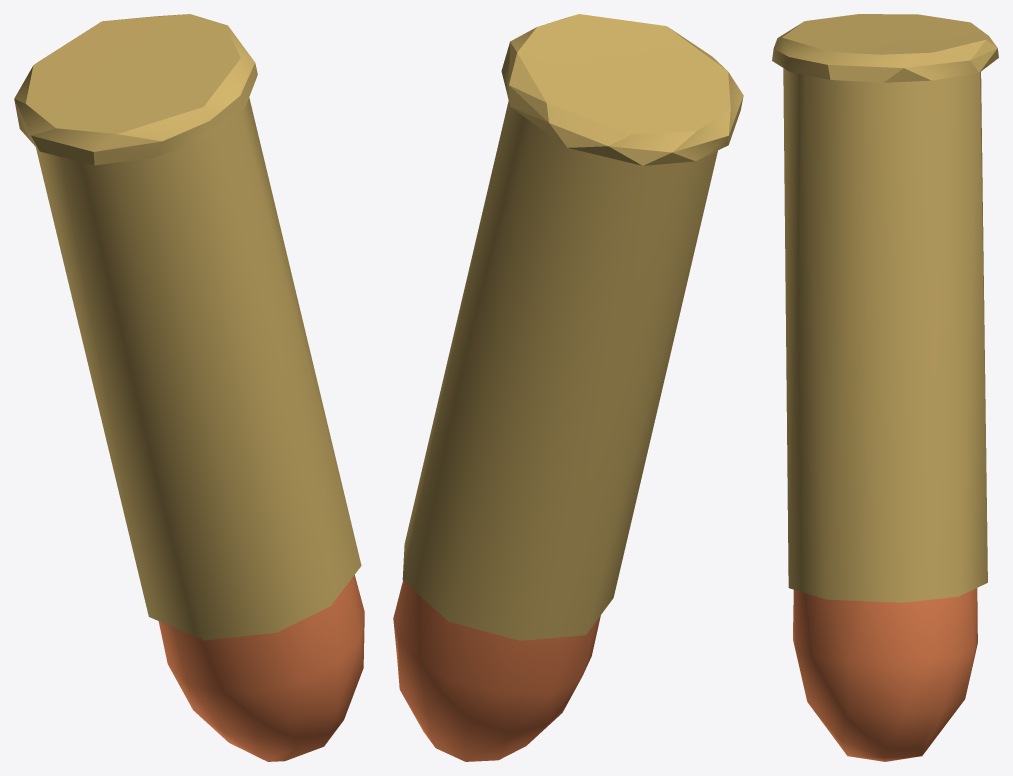
The model's file is SM_Webley_MagazineBullet.fbx.
3 renders of one model, left to right at view 1: azimuth 30°, elevation 25°; view 2: azimuth 150°, elevation 25°; view 3: azimuth 270°, elevation 25°, orthographic. The views are drawn at different scales.
Visible parts, largest first — view 1: Bullet; view 2: Bullet; view 3: Bullet.
Part boxes in pixels (x1,y1,x2,y2): Bullet: (14,14,364,761); Bullet: (393,14,743,761); Bullet: (772,14,998,761).
Bounding box in the file's own units: 1.96 × 4.28 × 1.3.
